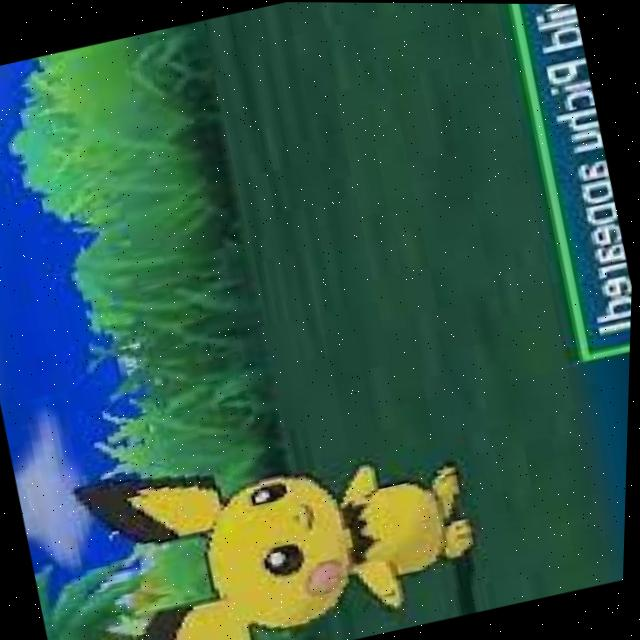pichu: (41, 387, 517, 640)
